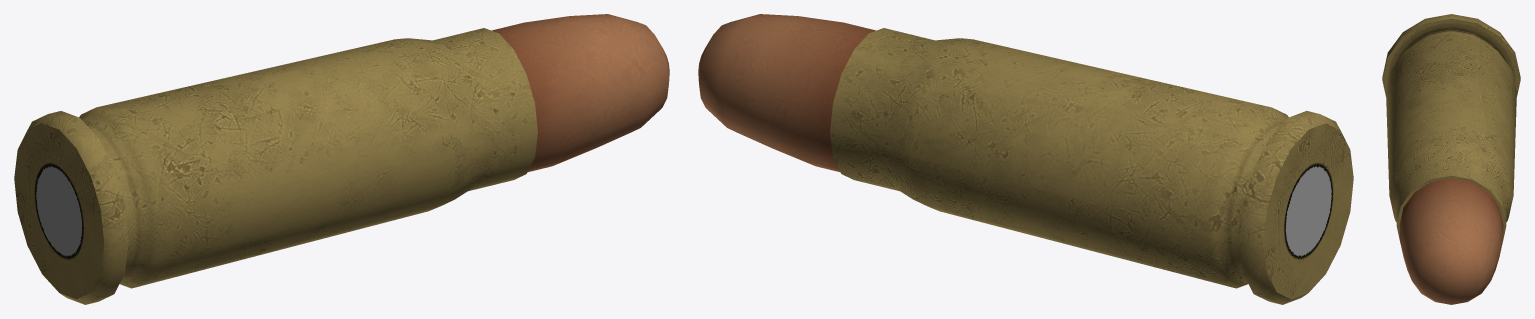
The model's file is cartridge_762x25.DAE.
The picture shows the model from 3 angles, left to right: view 1: azimuth 30°, elevation 25°; view 2: azimuth 150°, elevation 25°; view 3: azimuth 270°, elevation 25°; orthographic projection. The views are drawn at different scales.
Visible parts, largest first — view 1: cartridge_762x25; view 2: cartridge_762x25; view 3: cartridge_762x25.
Boxes of the visible parts, x1=… form: cartridge_762x25: x1=14, y1=14, x2=669, y2=304; cartridge_762x25: x1=698, y1=14, x2=1353, y2=304; cartridge_762x25: x1=1382, y1=14, x2=1520, y2=304.
Bounding box in the file's own units: 3.52 × 0.9874 × 0.9874.
1 material, 1 textured.
